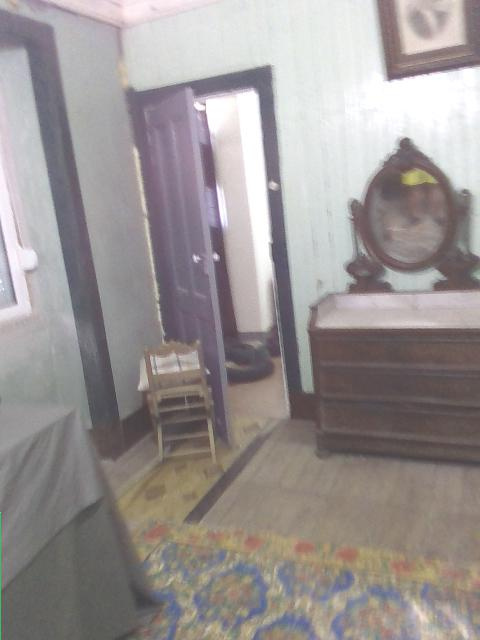semi_door: (127, 64, 305, 452)
